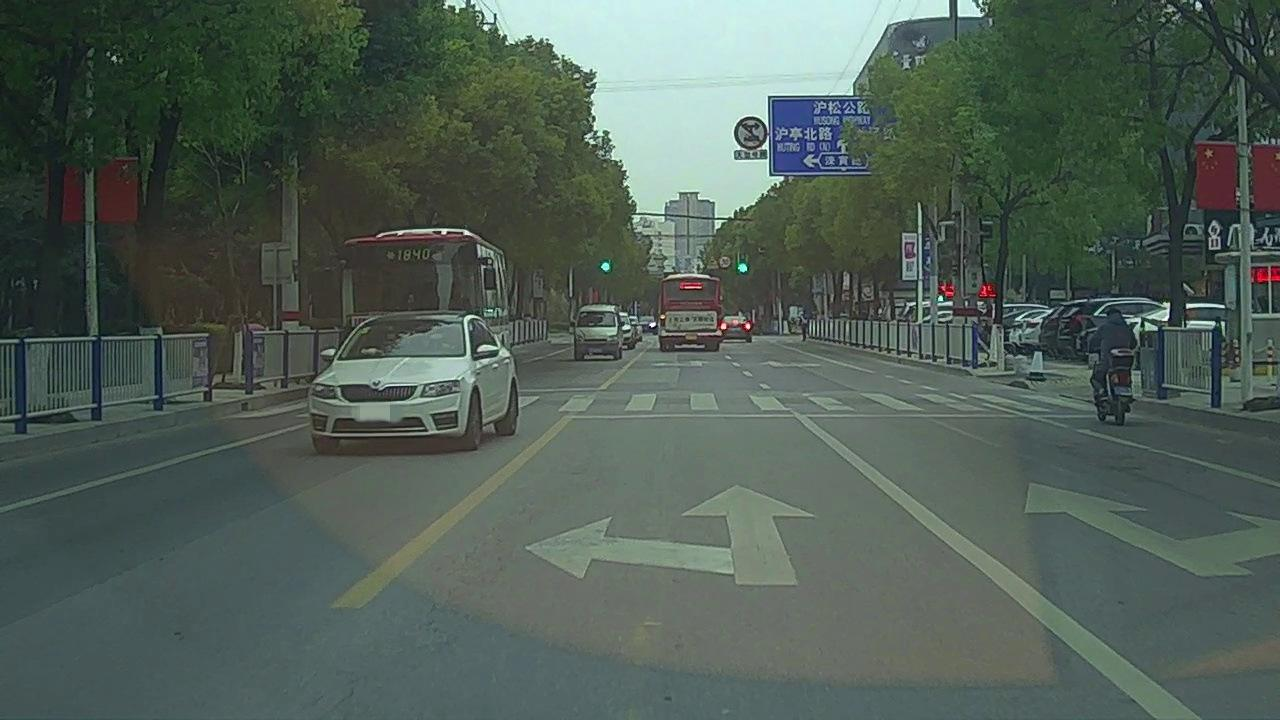traffic_light: (739, 248, 747, 272), (602, 262, 610, 271)
